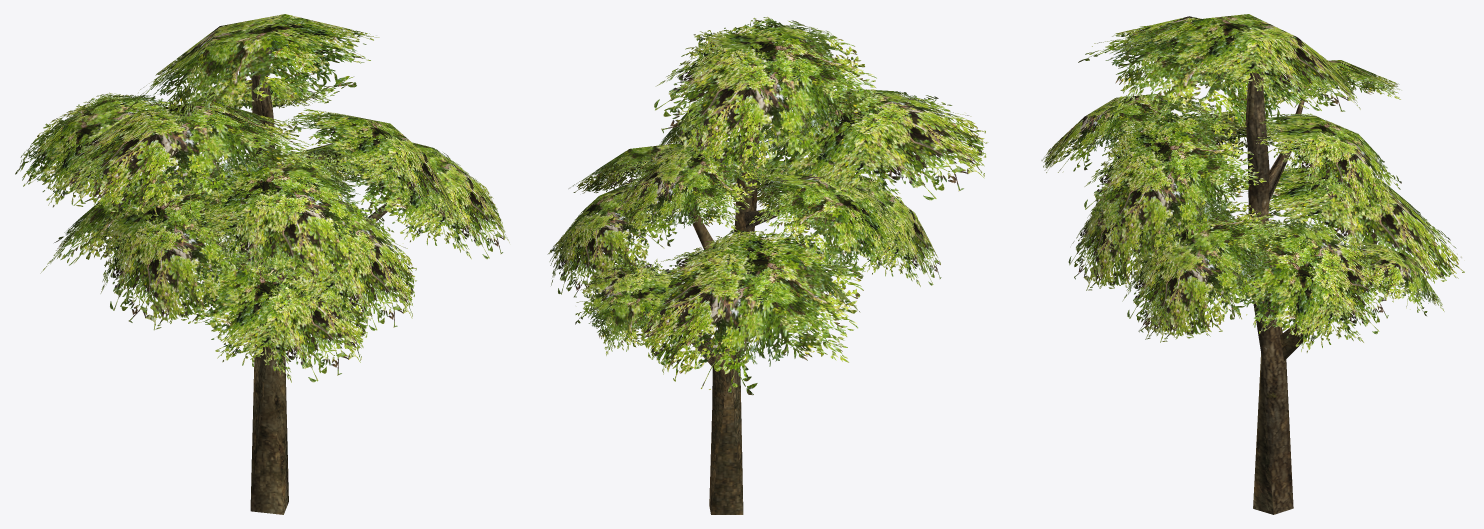
The model's file is tree1.fbx.
The picture shows the model from 3 angles, left to right: view 1: azimuth 30°, elevation 25°; view 2: azimuth 150°, elevation 25°; view 3: azimuth 270°, elevation 25°; orthographic projection. The views are drawn at different scales.
Parts seen in each view (by area): view 1: Tree2:polySurface5, Tree2:polySurface12, Tree2:polySurface10, Tree2:polySurface4, Tree2:polySurface1, Tree2:polySurface6, Tree2:polySurface13, Tree2:polySurface7, Tree2:Layer_0, Tree2:polySurface9, Tree2:polySurface3, Tree2:polySurface11 (+1 smaller); view 2: Tree2:polySurface3, Tree2:polySurface10, Tree2:polySurface5, Tree2:polySurface9, Tree2:polySurface11, Tree2:Layer_0, Tree2:polySurface2, Tree2:polySurface8, Tree2:polySurface4, Tree2:polySurface13, Tree2:polySurface6, Tree2:polySurface7; view 3: Tree2:polySurface7, Tree2:polySurface2, Tree2:polySurface13, Tree2:polySurface10, Tree2:Layer_0, Tree2:polySurface3, Tree2:polySurface11, Tree2:polySurface5, Tree2:polySurface12, Tree2:polySurface6, Tree2:polySurface8, Tree2:polySurface9 (+2 smaller).
Part boxes in pixels (<box>): Tree2:polySurface5: <box>54,100,321,217</box>; Tree2:polySurface12: <box>187,149,383,291</box>; Tree2:polySurface10: <box>128,14,379,126</box>; Tree2:polySurface4: <box>96,169,263,330</box>; Tree2:polySurface1: <box>179,234,372,382</box>; Tree2:polySurface6: <box>236,193,416,330</box>; Tree2:polySurface13: <box>330,142,509,259</box>; Tree2:polySurface7: <box>283,108,457,223</box>; Tree2:Layer_0: <box>203,63,401,514</box>; Tree2:polySurface9: <box>15,92,202,207</box>; Tree2:polySurface3: <box>40,172,231,273</box>; Tree2:polySurface11: <box>191,79,331,110</box>; Tree2:polySurface3: <box>632,229,864,395</box>; Tree2:polySurface10: <box>654,17,887,177</box>; Tree2:polySurface5: <box>744,89,988,204</box>; Tree2:polySurface9: <box>744,167,907,278</box>; Tree2:polySurface11: <box>617,141,772,246</box>; Tree2:Layer_0: <box>680,103,783,514</box>; Tree2:polySurface2: <box>547,178,685,297</box>; Tree2:polySurface8: <box>575,256,685,355</box>; Tree2:polySurface4: <box>794,168,941,286</box>; Tree2:polySurface13: <box>568,143,735,193</box>; Tree2:polySurface6: <box>723,160,837,206</box>; Tree2:polySurface7: <box>658,105,791,149</box>; Tree2:polySurface7: <box>1084,104,1266,260</box>; Tree2:polySurface2: <box>1216,211,1391,352</box>; Tree2:polySurface13: <box>1122,200,1293,342</box>; Tree2:polySurface10: <box>1114,14,1360,111</box>; Tree2:Layer_0: <box>1219,66,1329,514</box>; Tree2:polySurface3: <box>1224,167,1464,283</box>; Tree2:polySurface11: <box>1256,113,1401,211</box>; Tree2:polySurface5: <box>1078,16,1327,138</box>; Tree2:polySurface12: <box>1041,94,1222,172</box>; Tree2:polySurface6: <box>1068,176,1231,290</box>; Tree2:polySurface8: <box>1348,241,1444,316</box>; Tree2:polySurface9: <box>1229,60,1401,109</box>.
Bounding box in the file's own units: 29.26 × 32.12 × 26.77.
